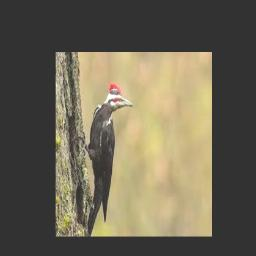Woodpecker: (76, 84, 133, 236)
